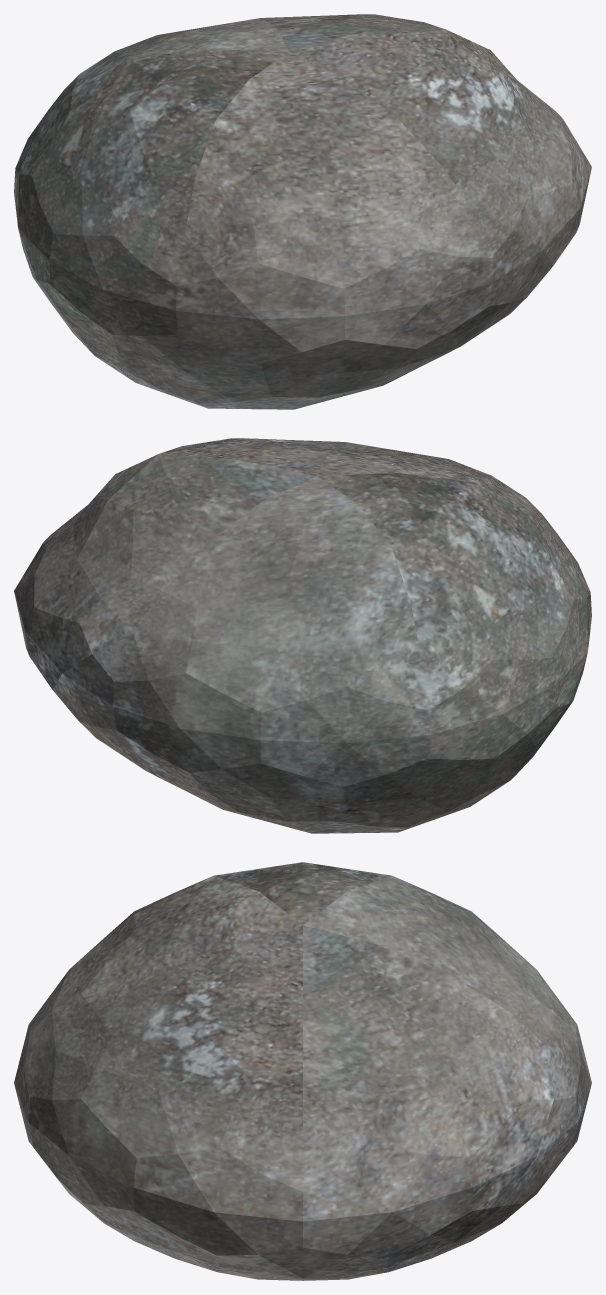
File: FakeItemStone3PrehistoricPuzzle1.fbx
3 renders of one model, top to bottom at view 1: azimuth 30°, elevation 25°; view 2: azimuth 150°, elevation 25°; view 3: azimuth 270°, elevation 25°, orthographic. The views are drawn at different scales.
Visible parts, largest first — view 1: Icosphere.002; view 2: Icosphere.002; view 3: Icosphere.002.
Boxes of the visible parts, <box> form: Icosphere.002: <box>14,14,591,409</box>; Icosphere.002: <box>14,438,591,833</box>; Icosphere.002: <box>14,862,591,1280</box>.
Bounding box in the file's own units: 74.8 × 44.41 × 69.1.
1 material, 1 textured.
